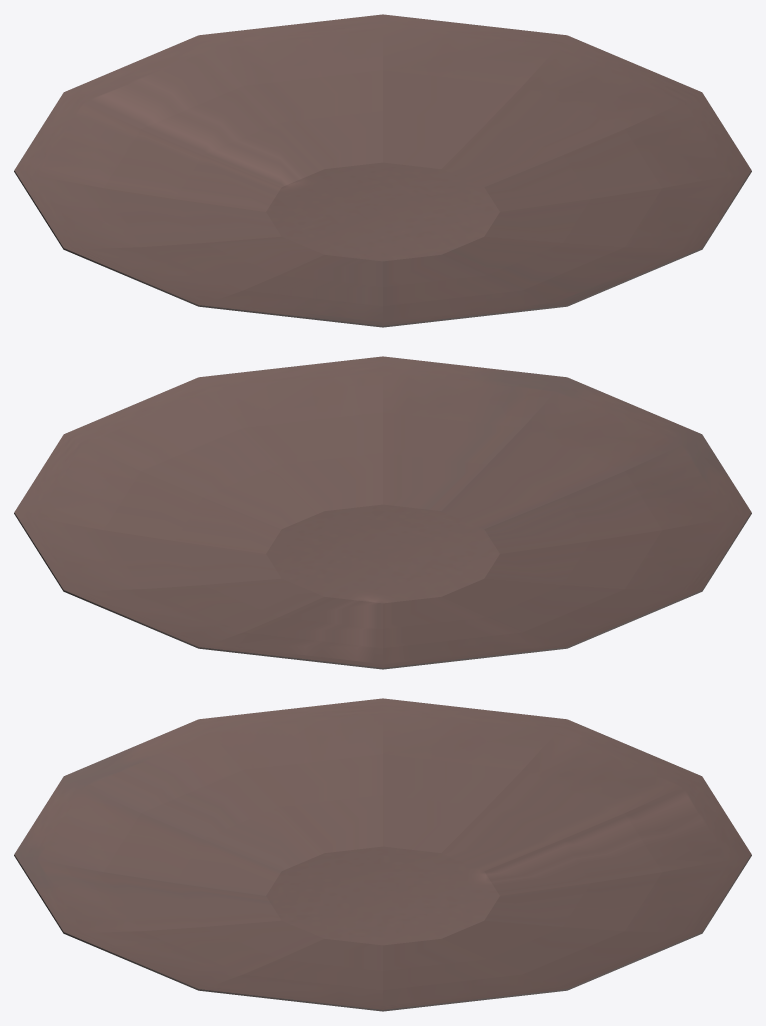
The model's file is Plate.fbx.
3 renders of one model, top to bottom at view 1: azimuth 30°, elevation 25°; view 2: azimuth 150°, elevation 25°; view 3: azimuth 270°, elevation 25°, orthographic.
Parts seen in each view (by area): view 1: pCylinder1; view 2: pCylinder1; view 3: pCylinder1.
Boxes of the visible parts, x1=… form: pCylinder1: x1=14, y1=14, x2=751, y2=327; pCylinder1: x1=14, y1=356, x2=751, y2=669; pCylinder1: x1=14, y1=698, x2=751, y2=1011.
Size of the model in its own units: 5.66 by 0.5944 by 5.66.
